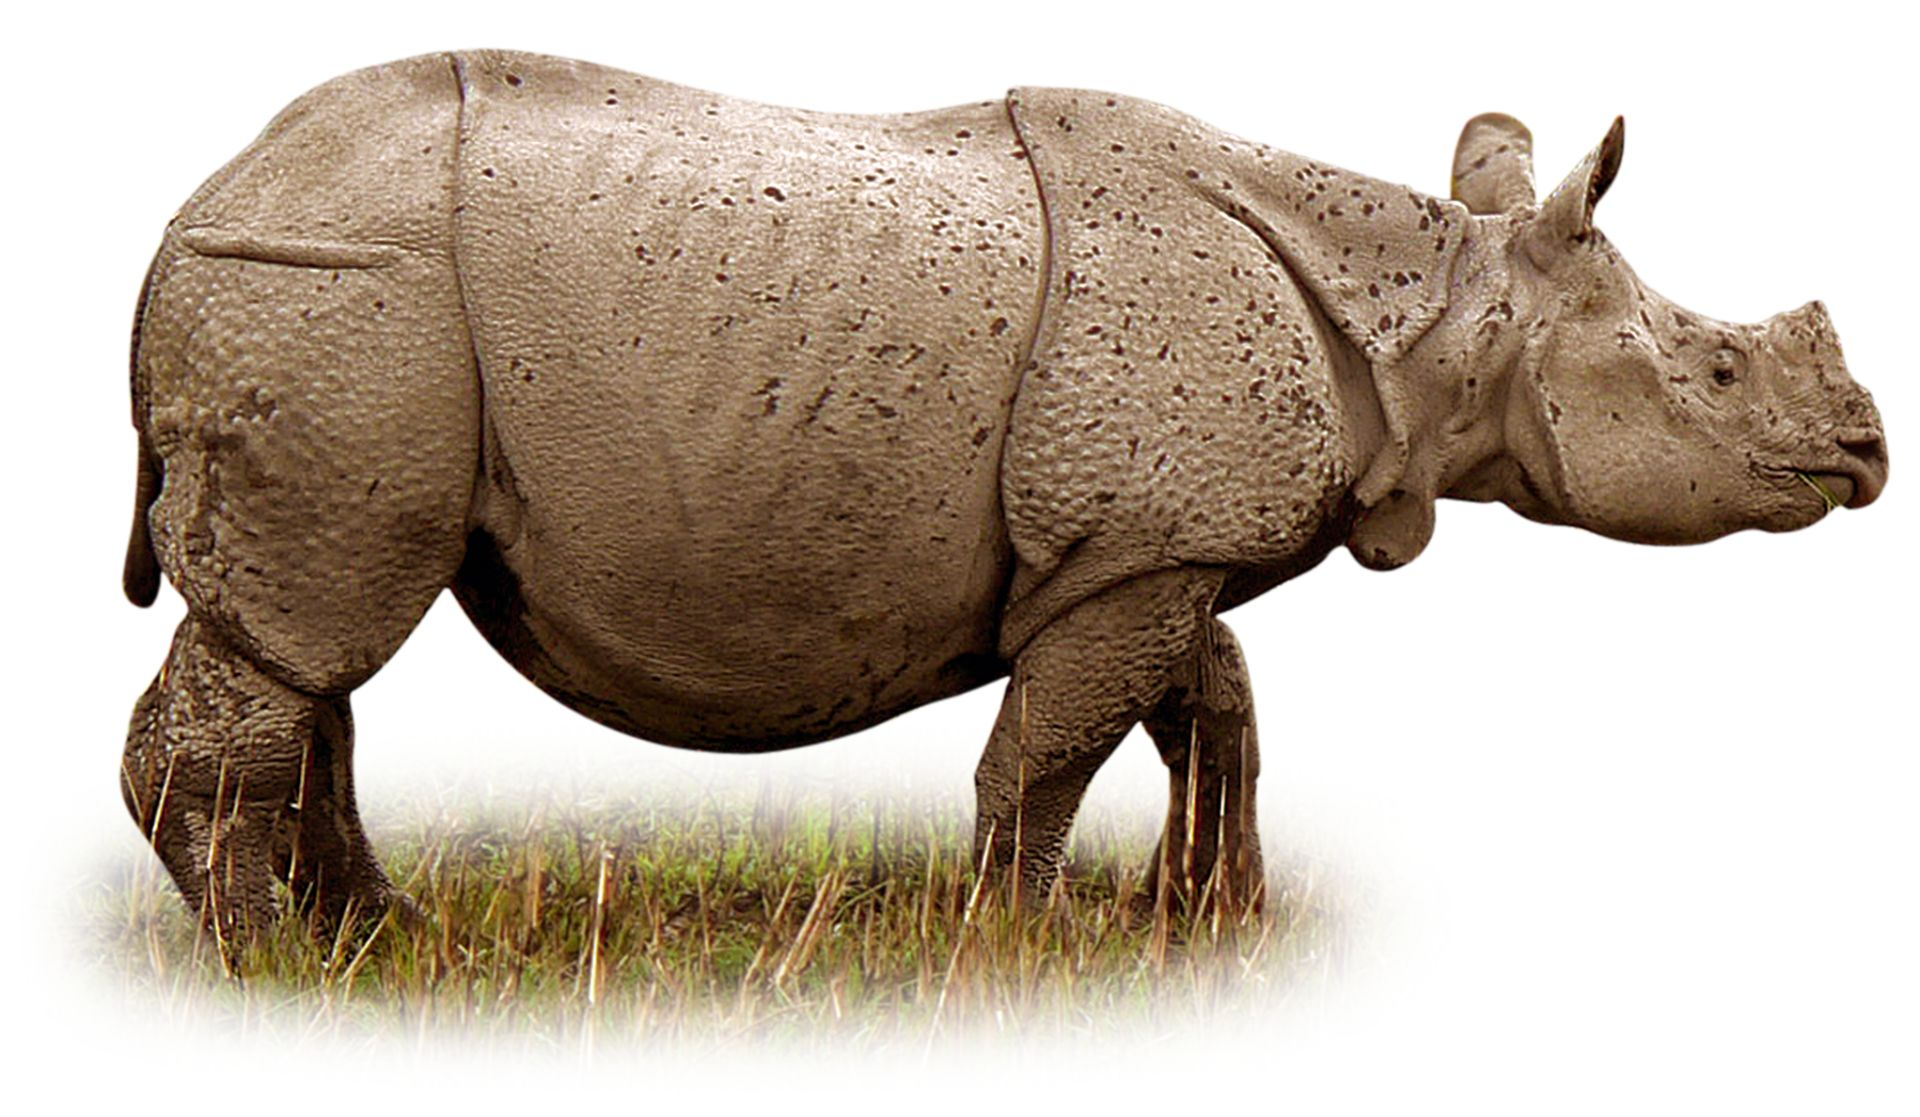rhinoceros: (114, 37, 1901, 1117)
